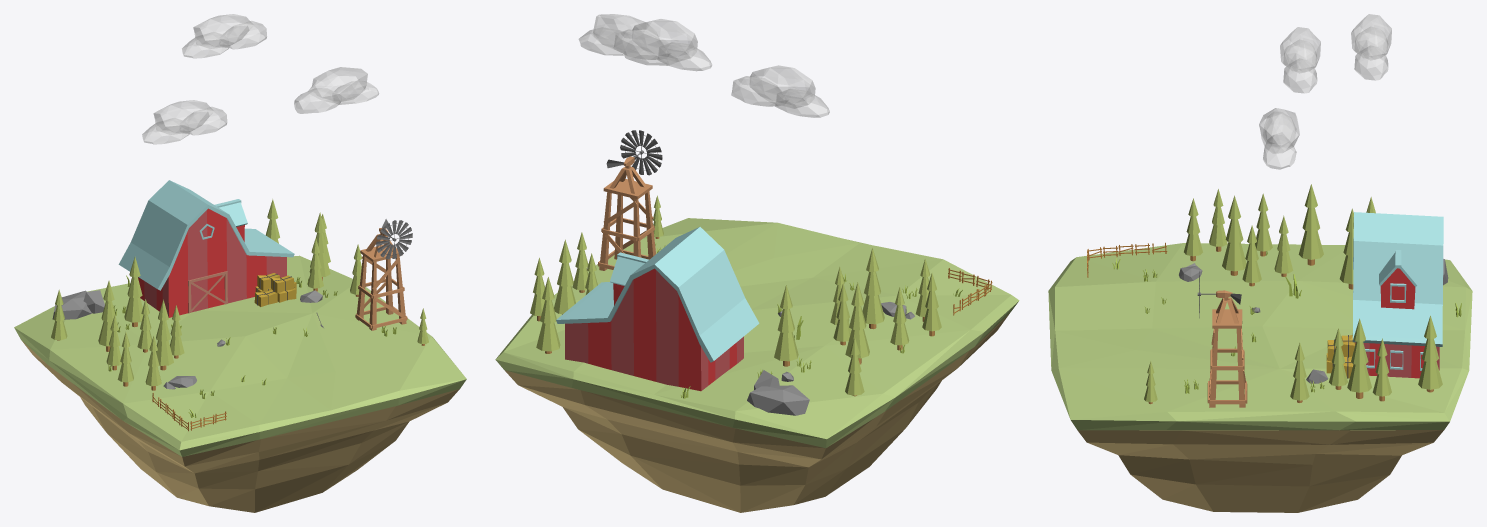
File: land_farm.fbx
The picture shows the model from 3 angles, left to right: view 1: azimuth 30°, elevation 25°; view 2: azimuth 150°, elevation 25°; view 3: azimuth 270°, elevation 25°; orthographic projection. The views are drawn at different scales.
Parts seen in each view (by area): view 1: Cube.006, Cube.001, Cube.015, Torus.000, Cube.009, Cube.048, Cube.000, Cube.047, Icosphere.00.005, Cube.013; view 2: Cube.006, Cube.001, Cube.015, Torus.000, Icosphere.00.005, Cube.048, Cube.000, Cube.038, Cube.047, Cube.013, Cube.035, Cube.002 (+4 smaller); view 3: Cube.006, Cube.001, Cube.015, Torus.000, Cube.047, Cube.000, Cube.013, Cube.038, Cube.048, Cube.009, Cube.018, Cube.046 (+7 smaller).
Boxes of the visible parts, x1,y1,x2,y2 form: Cube.006: [14, 255, 466, 512]; Cube.001: [118, 180, 294, 317]; Cube.015: [142, 14, 378, 144]; Torus.000: [355, 219, 412, 330]; Cube.009: [254, 273, 296, 306]; Cube.048: [124, 256, 143, 327]; Cube.000: [156, 299, 173, 370]; Cube.047: [98, 280, 116, 351]; Icosphere.00.005: [52, 290, 91, 319]; Cube.013: [309, 212, 330, 280]; Cube.006: [495, 218, 1019, 512]; Cube.001: [556, 227, 759, 391]; Cube.015: [578, 14, 829, 117]; Torus.000: [597, 130, 662, 270]; Icosphere.00.005: [747, 385, 809, 415]; Cube.048: [774, 285, 798, 366]; Cube.000: [862, 247, 884, 329]; Cube.038: [536, 277, 560, 353]; Cube.047: [845, 282, 869, 364]; Cube.013: [554, 239, 575, 314]; Cube.035: [922, 273, 941, 336]; Cube.002: [890, 287, 909, 350]; Cube.006: [1048, 243, 1472, 512]; Cube.001: [1352, 212, 1443, 378]; Cube.015: [1259, 14, 1391, 169]; Torus.000: [1197, 271, 1247, 407]; Cube.047: [1298, 184, 1323, 265]; Cube.000: [1222, 195, 1246, 275]; Cube.013: [1347, 318, 1371, 398]; Cube.038: [1418, 315, 1442, 392]; Cube.048: [1339, 208, 1353, 289]; Cube.009: [1326, 335, 1355, 378]; Cube.018: [1372, 338, 1391, 401]; Cube.046: [1184, 198, 1202, 261].
Size of the model in its own units: 15.31 by 19.73 by 15.82.
